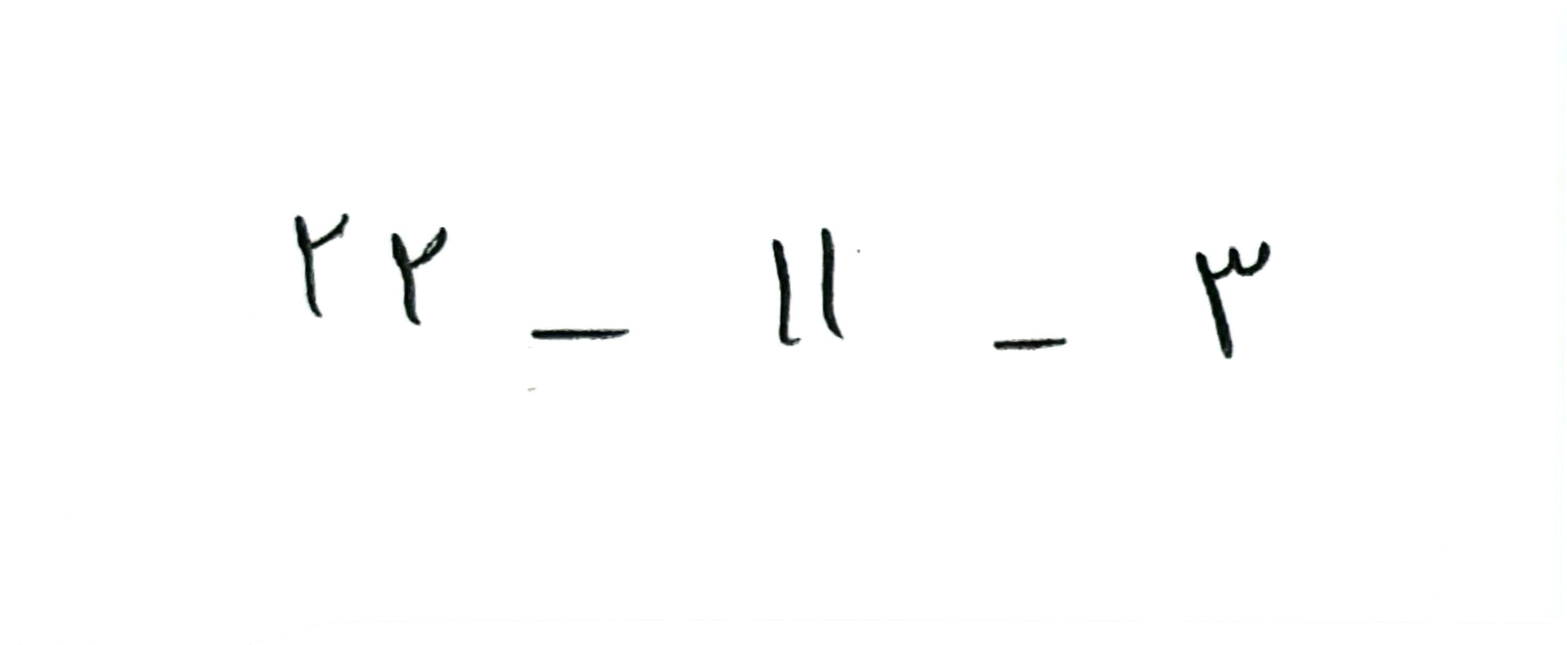character: (1194, 241, 1272, 360), (390, 226, 449, 326), (295, 214, 348, 320), (772, 241, 800, 347), (820, 228, 845, 343), (532, 328, 633, 340), (993, 338, 1066, 350)
